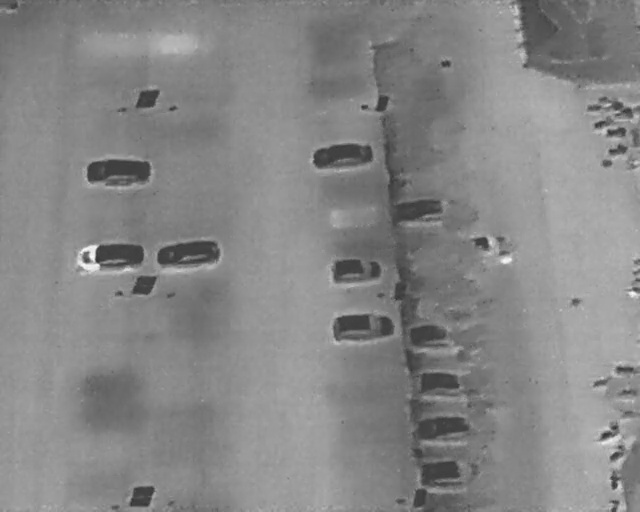Car: (453, 230, 515, 268), (395, 196, 470, 227), (155, 237, 221, 270), (309, 140, 374, 173), (76, 239, 145, 270), (331, 310, 394, 342), (86, 157, 151, 188), (419, 456, 481, 488), (414, 410, 471, 442), (330, 254, 382, 287), (417, 369, 471, 397), (410, 324, 460, 350)
